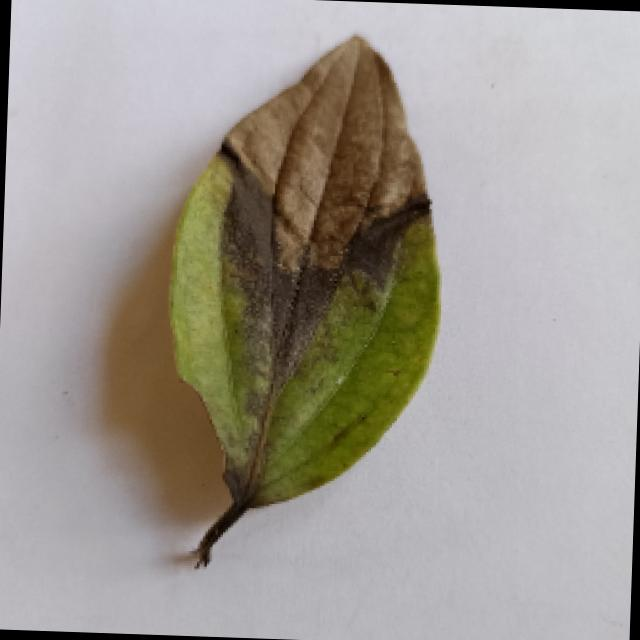footrot: (159, 28, 450, 572)
